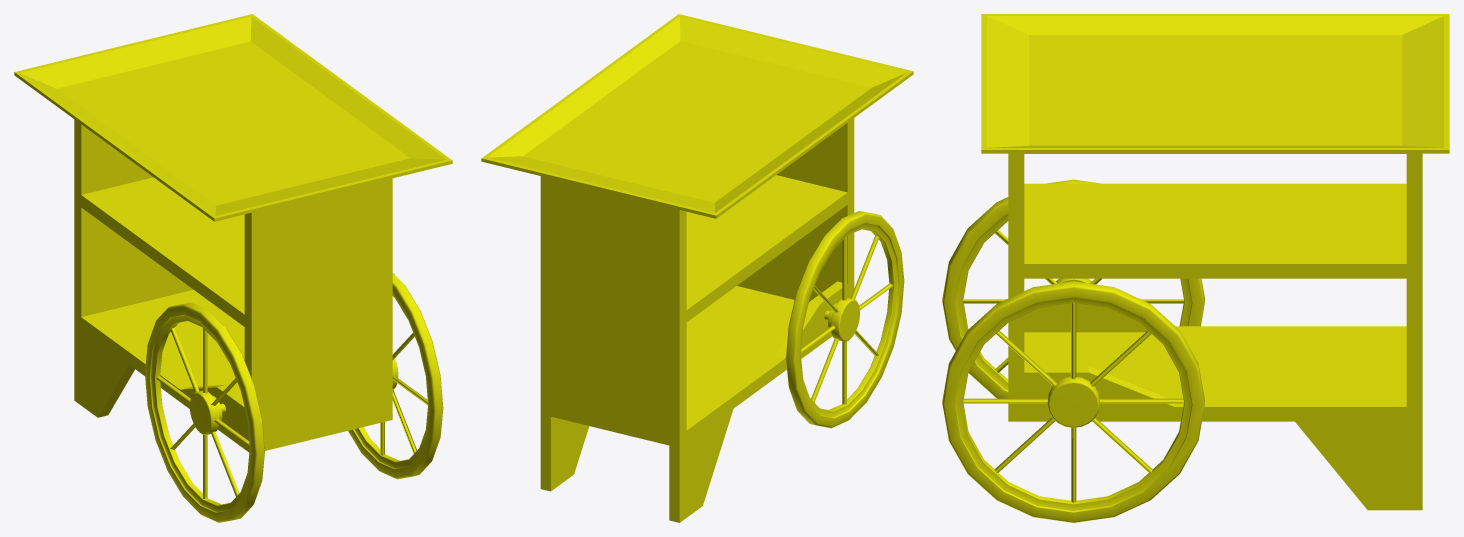
Rendered from SurgicalTray_Modulur.fbx.
3 views of the same model, side by side, from view 1: azimuth 30°, elevation 25°; view 2: azimuth 150°, elevation 25°; view 3: azimuth 270°, elevation 25° (orthographic). The views are drawn at different scales.
Visible parts, largest first — view 1: SurgicalTray_Modulur; view 2: SurgicalTray_Modulur; view 3: SurgicalTray_Modulur.
Boxes of the visible parts, x1,y1,x2,y2 form: SurgicalTray_Modulur: [14, 14, 452, 522]; SurgicalTray_Modulur: [481, 14, 913, 522]; SurgicalTray_Modulur: [942, 14, 1449, 522].
Bounding box in the file's own units: 71.22 × 94.89 × 112.
